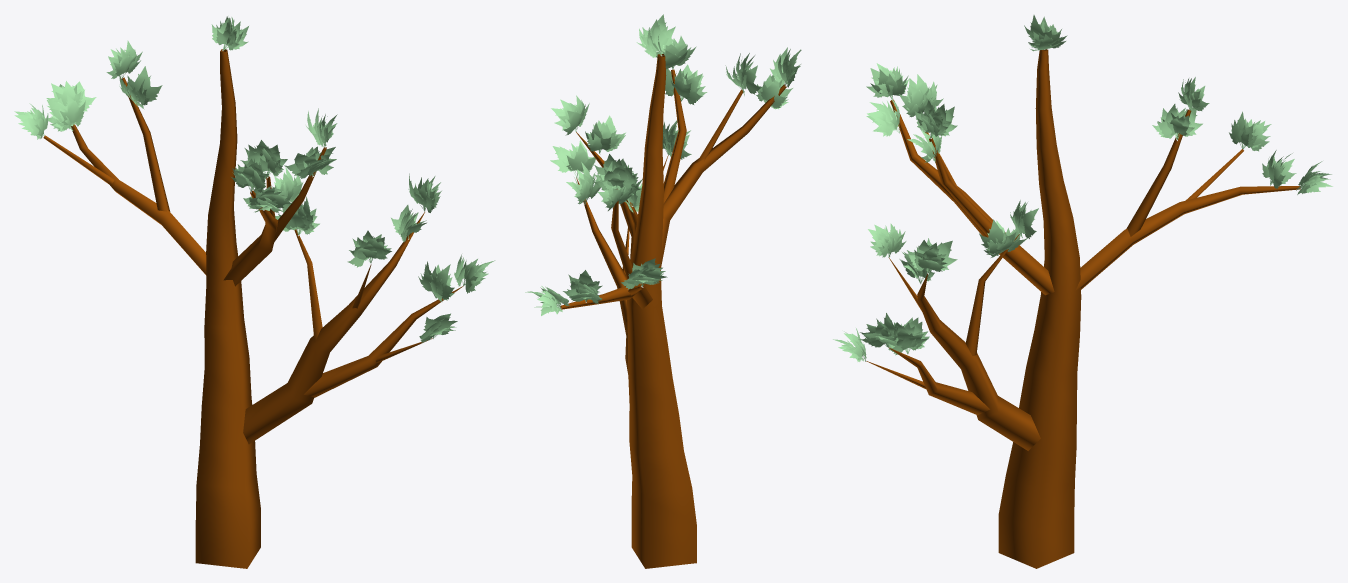
File: FinalTree21.fbx
3 views of the same model, side by side, from view 1: azimuth 30°, elevation 25°; view 2: azimuth 150°, elevation 25°; view 3: azimuth 270°, elevation 25° (orthographic).
Visible parts, largest first — view 1: Árbol; view 2: Árbol, Hojas|palmate.003|Dupli|85; view 3: Árbol.
Part boxes in pixels (box(x1,y1,x2,y2)): Árbol: box(43, 49, 463, 568); Árbol: box(560, 54, 786, 568); Hojas|palmate.003|Dupli|85: box(760, 81, 787, 108); Árbol: box(866, 49, 1300, 568).
Size of the model in its own units: 275 by 480 by 405.
